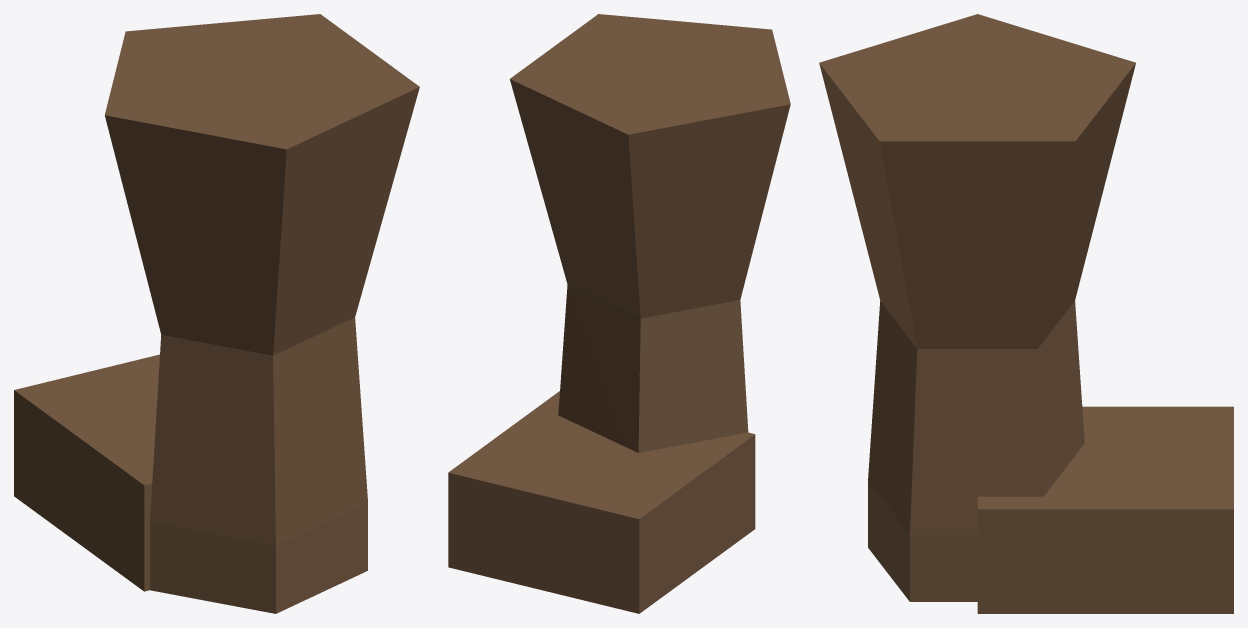
File: animal_capybara_leg.obj
3 renders of one model, left to right at view 1: azimuth 30°, elevation 25°; view 2: azimuth 150°, elevation 25°; view 3: azimuth 270°, elevation 25°, orthographic. The views are drawn at different scales.
Parts seen in each view (by area): view 1: animal_capybara_leg; view 2: animal_capybara_leg; view 3: animal_capybara_leg.
Part boxes in pixels (<box>): animal_capybara_leg: <box>14,14,419,613</box>; animal_capybara_leg: <box>448,14,790,613</box>; animal_capybara_leg: <box>819,14,1233,613</box>.
Bounding box in the file's own units: 0.1179 × 0.2063 × 0.1622.
